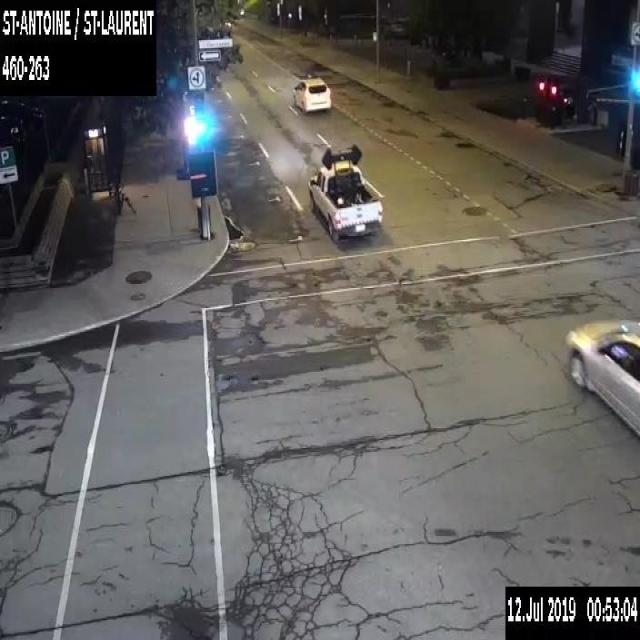vehicle: (564, 314, 639, 438), (308, 141, 384, 244), (292, 74, 332, 110), (0, 97, 45, 127), (0, 114, 25, 144)
